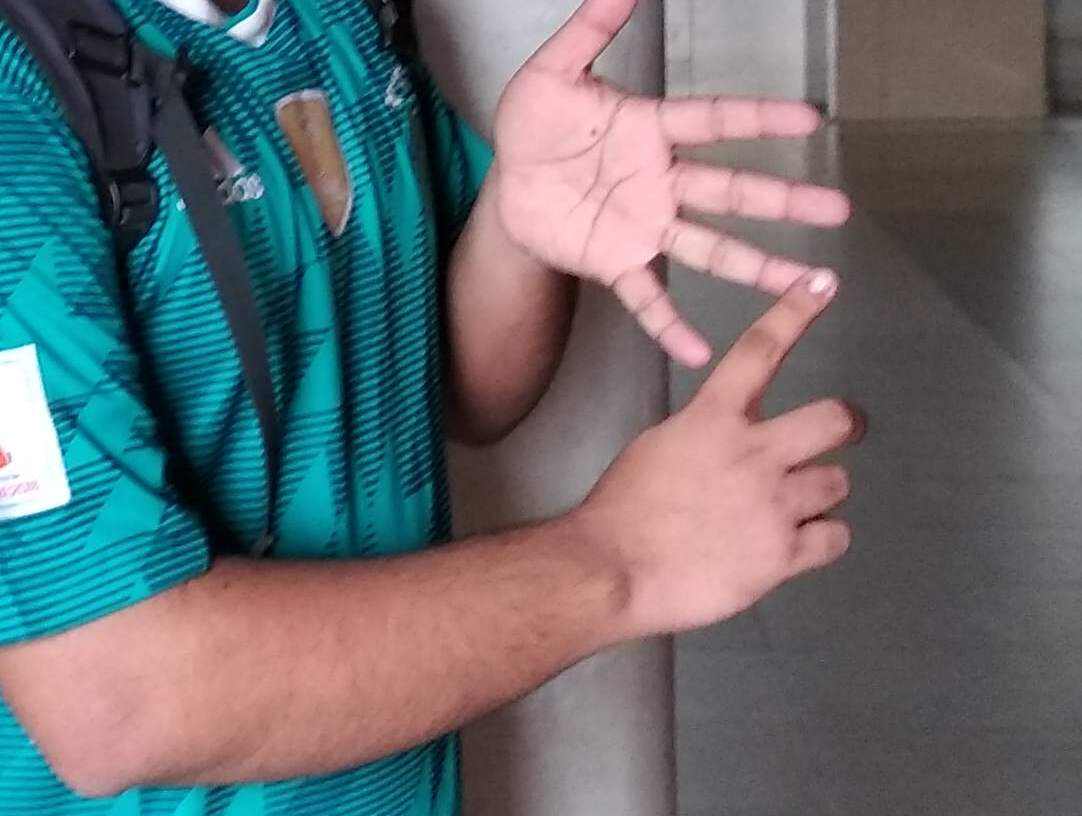e: (588, 78, 861, 456)
